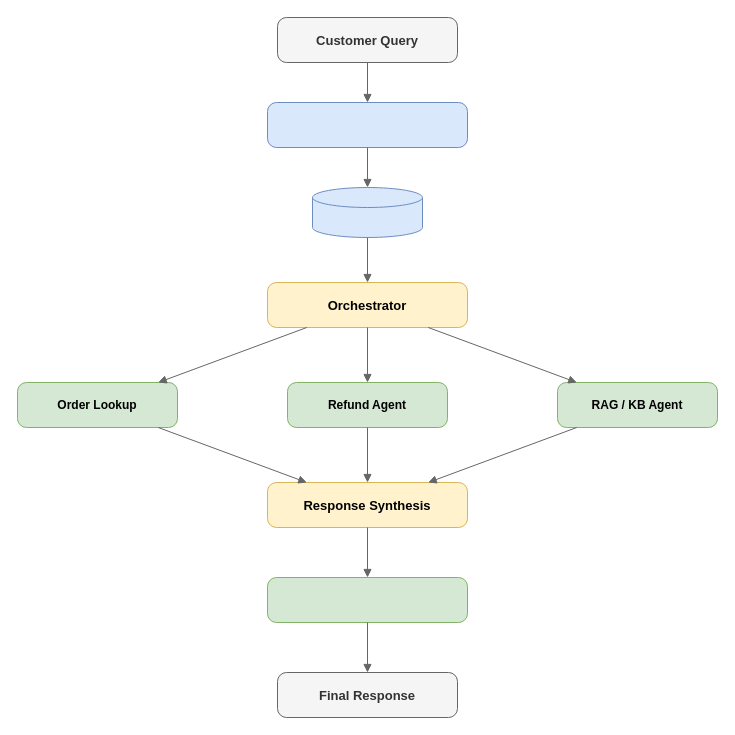
The diagram is 735 pixels wide and 735 high, and some of its shapes have lost their labels. Here are the shapes that lost their labels. From the top down, the box of each, then its label:
(266, 102, 468, 148): Embedding Pipeline
(312, 186, 422, 238): Vector DB
(266, 576, 468, 622): Guardrail Check
